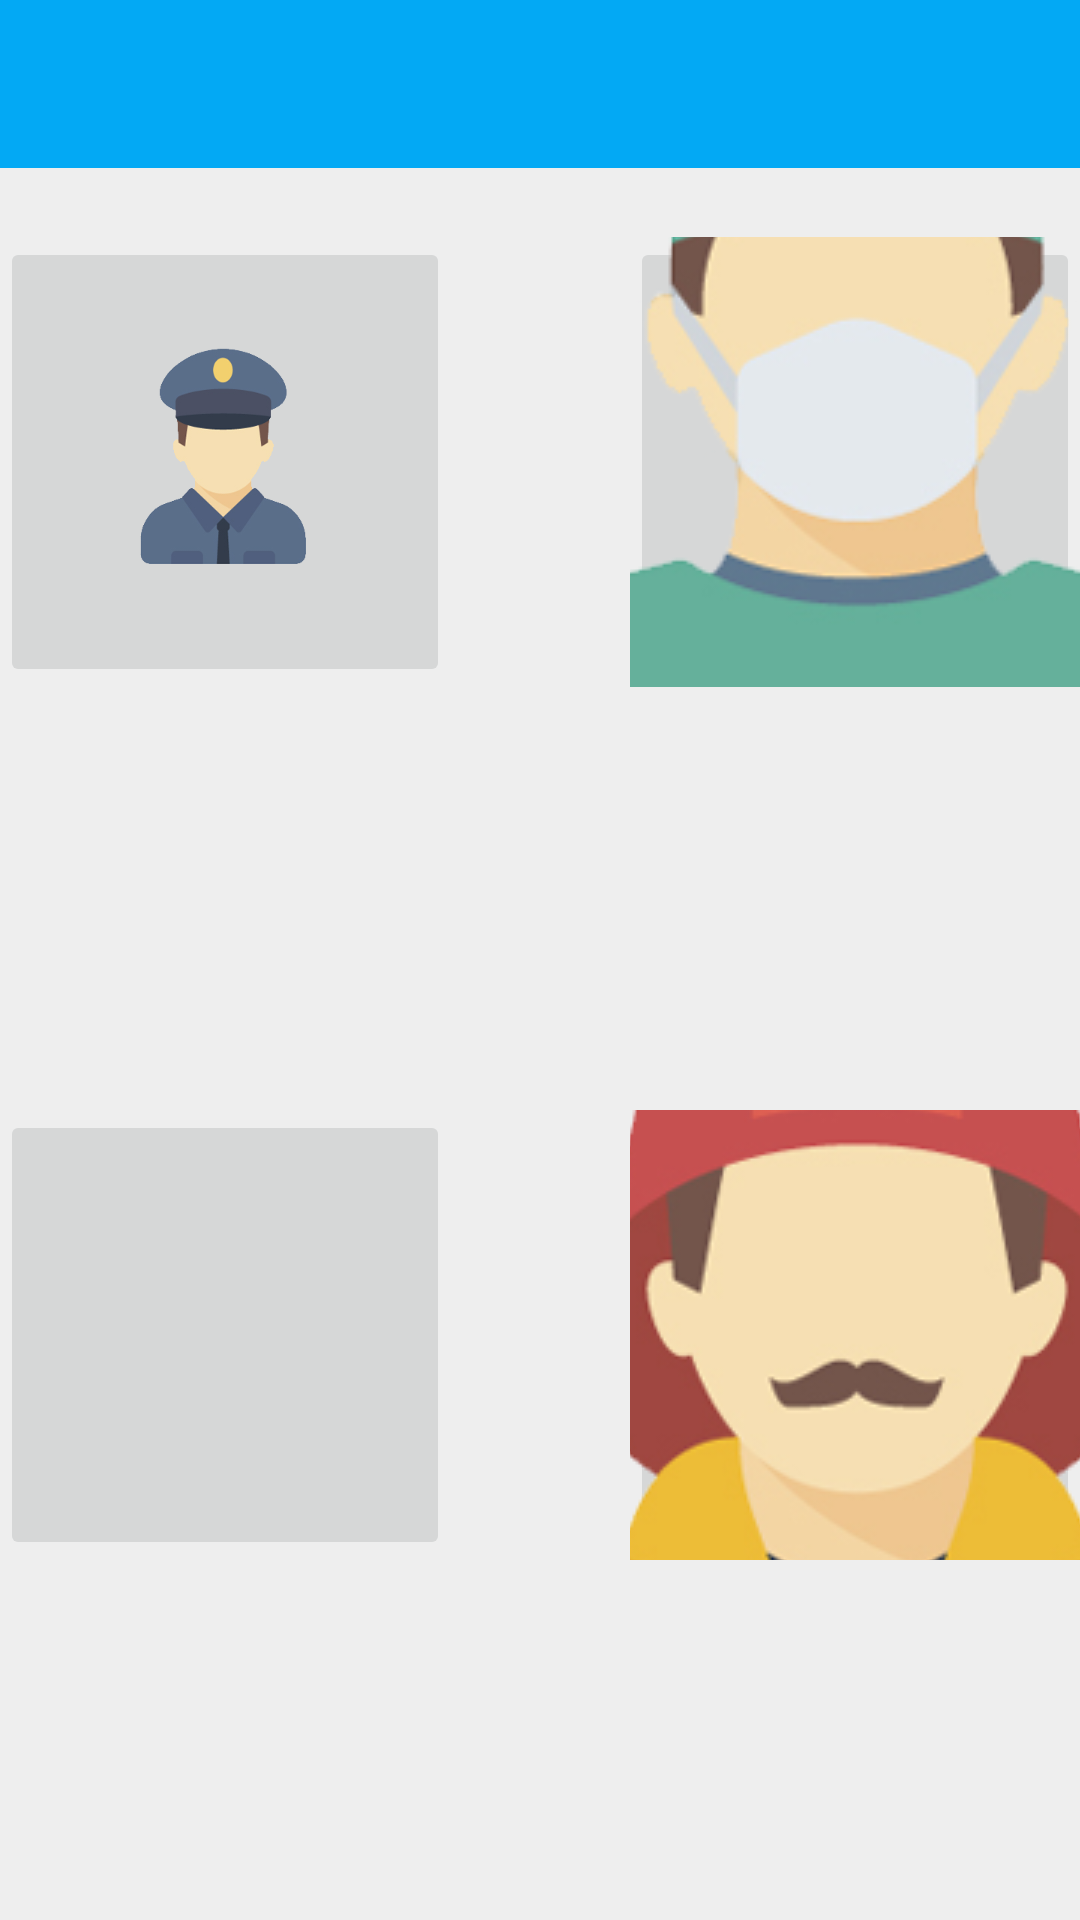

Icons on this 1080px×1920px Android screen, each with the point to tap as [x,y]:
policia: [223,456]
